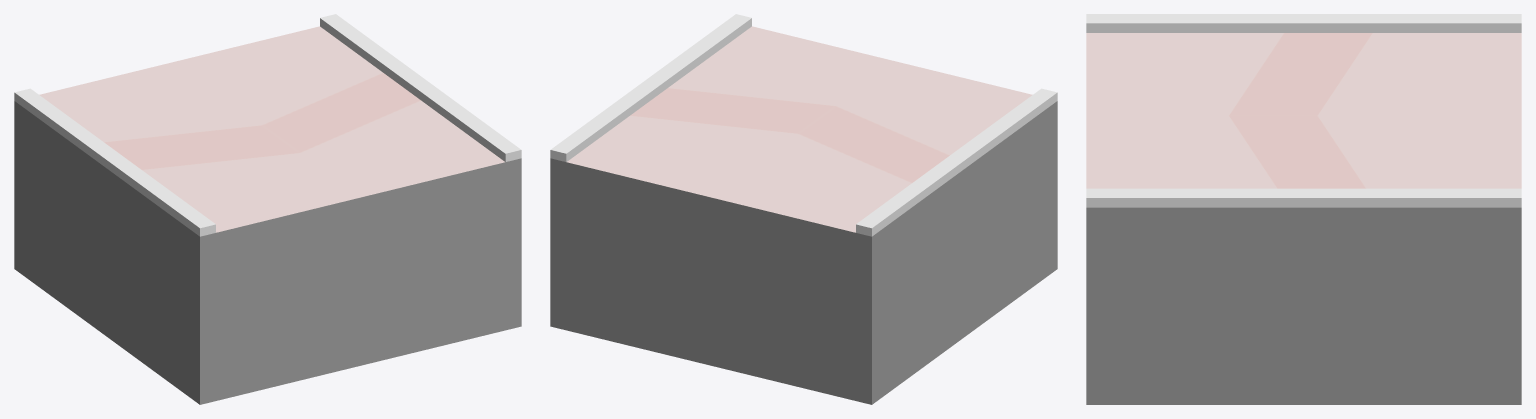
File: Platform.obj
3 views of the same model, side by side, from view 1: azimuth 30°, elevation 25°; view 2: azimuth 150°, elevation 25°; view 3: azimuth 270°, elevation 25° (orthographic). The views are drawn at different scales.
Visible parts, largest first — view 1: Platform; view 2: Platform; view 3: Platform.
Boxes of the visible parts, left/top/right/bottom form: Platform: left=14, top=14, right=521, bottom=404; Platform: left=550, top=14, right=1057, bottom=404; Platform: left=1086, top=14, right=1521, bottom=404.
Bounding box in the file's own units: 10 × 5.25 × 10.
